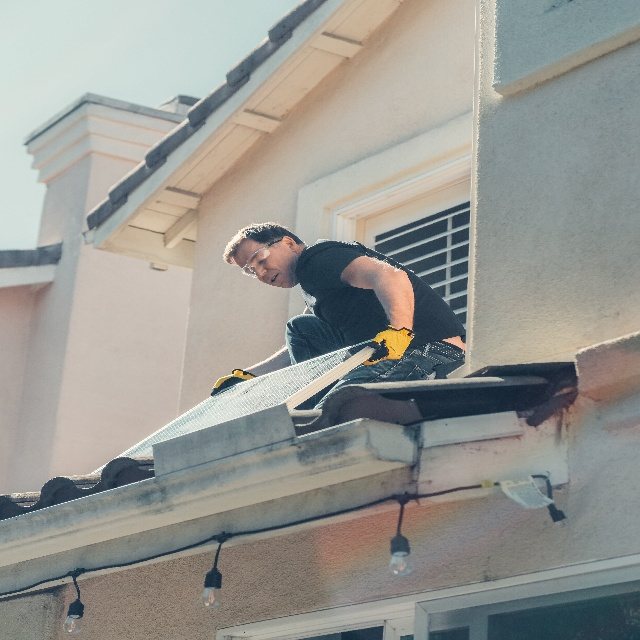Gafas: (241, 238, 283, 279)
Guantes: (360, 320, 416, 366), (209, 366, 257, 397)
